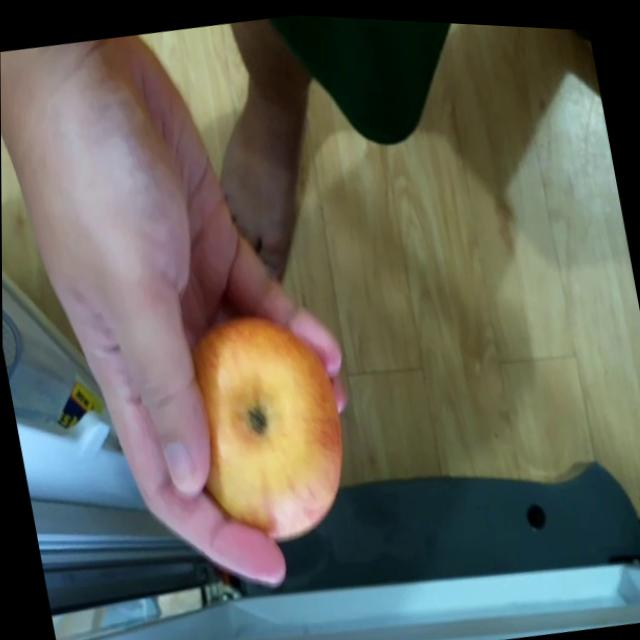apple: (174, 299, 362, 549)
